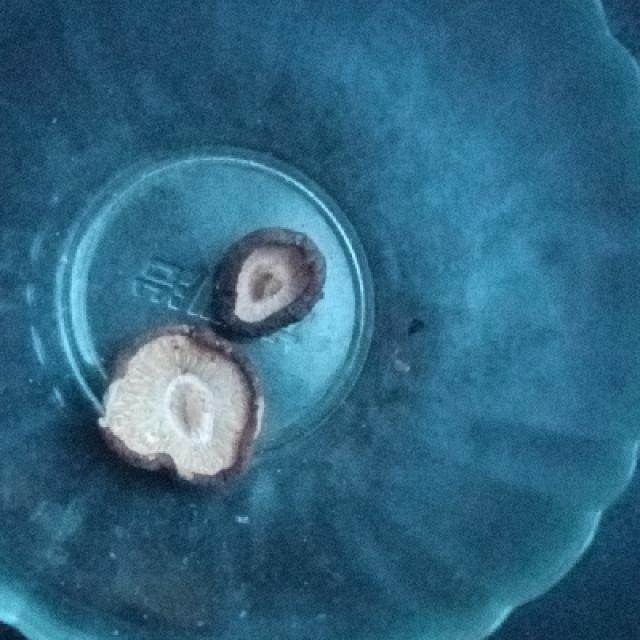Lentinus edodes: (96, 325, 265, 483), (213, 228, 327, 342)
